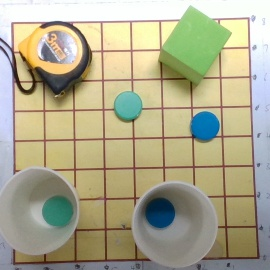blue: (189, 110, 220, 142)
cup_blue: (129, 177, 217, 268)
cup_green: (1, 166, 88, 255)
green: (113, 90, 144, 121)
